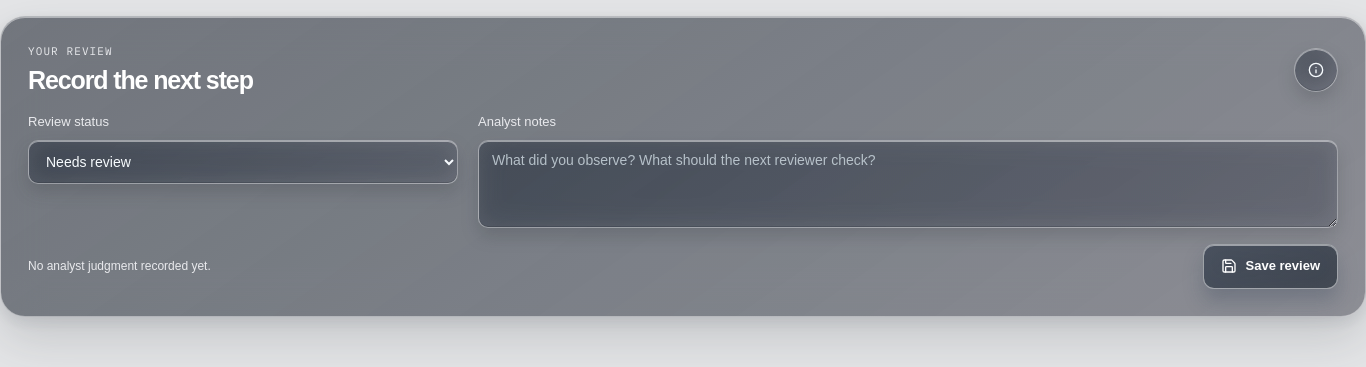
it: saves analyst judgment separately with its loaded version
Select "Review complete" in the dropdown labelled "Review status" at (243, 162), box [28,140,458,184]
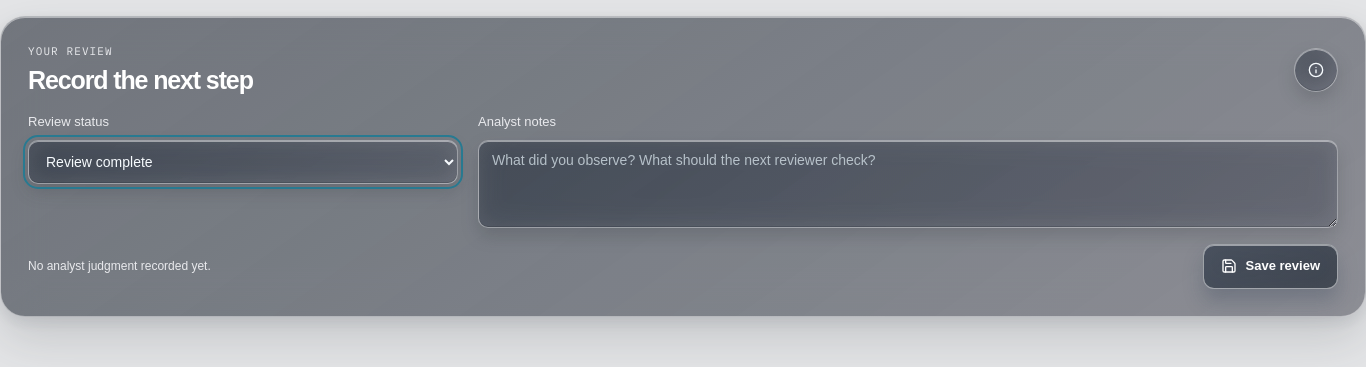
Type "Call back via trusted number." into the text box labelled "Analyst notes".
click(908, 184); type("Call back via trusted number.")  # box [478,140,1338,228]
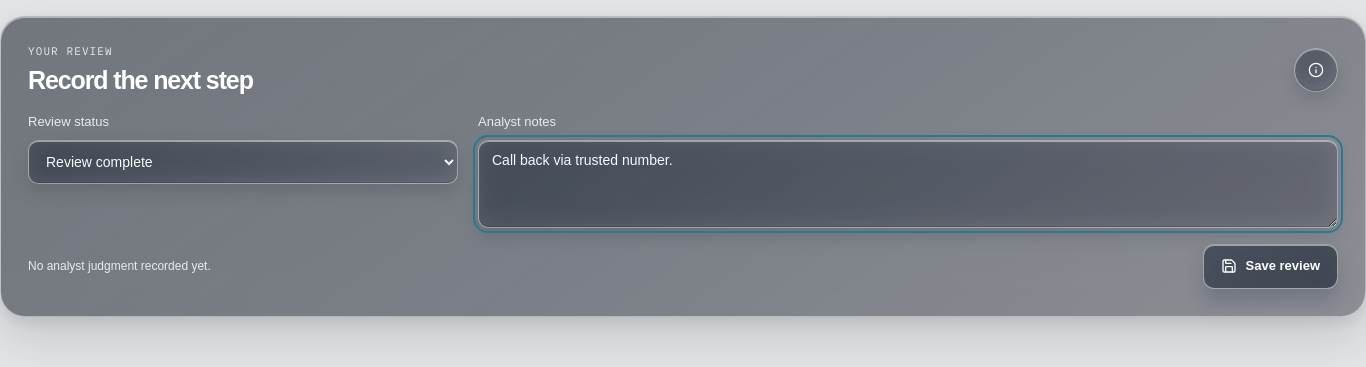
Click the button "Save review".
click(1270, 266)  # box [1202,244,1338,288]
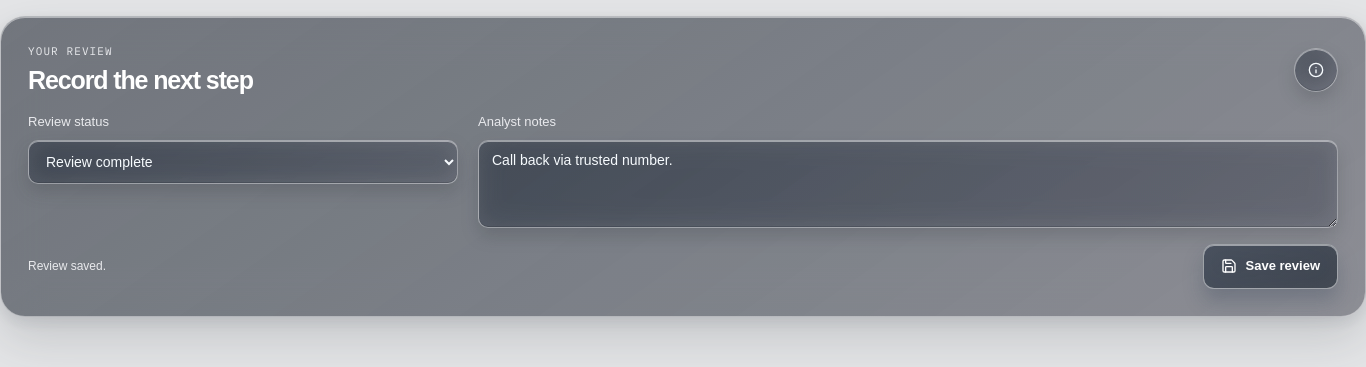
Check: the text "Review saved." is shown, box [28,259,106,273]
